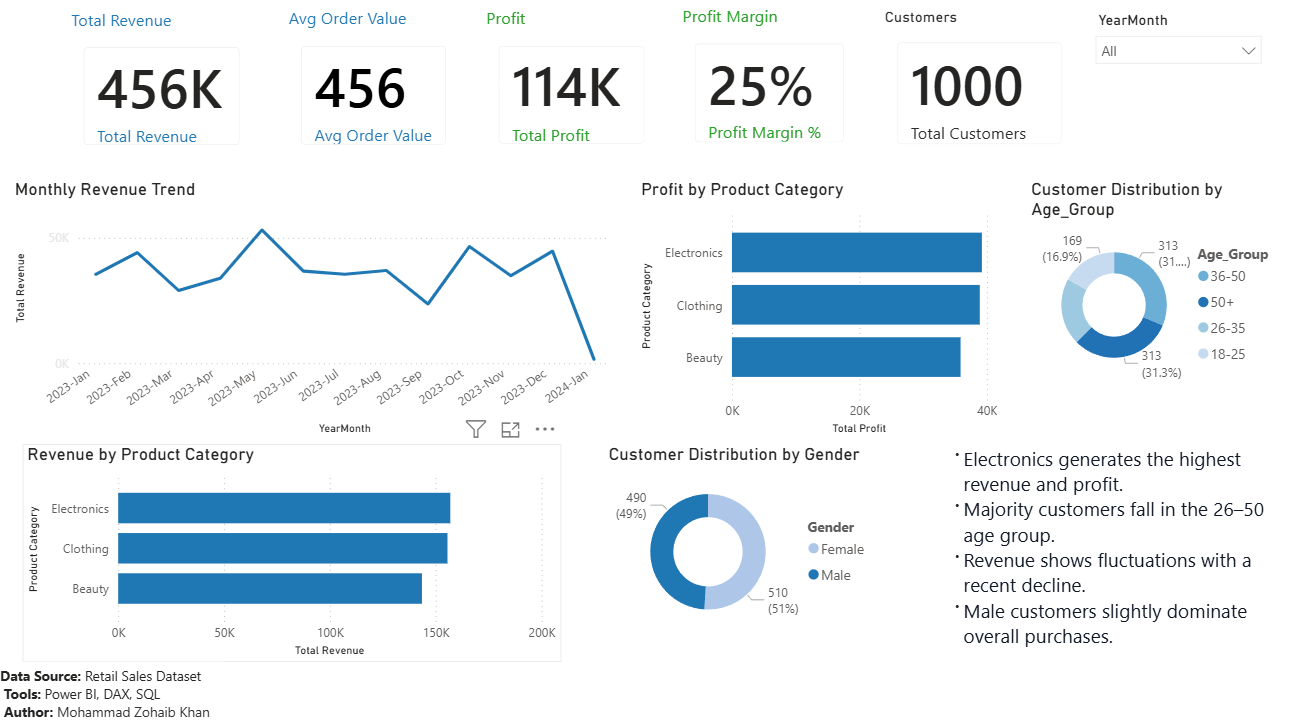

What the dashboard file says about the page in this screenshot:
{"tool":"powerbi","page":{"name":"Executive Summary","canvas":[1280,720],"ordinal":0},"visuals":[{"type":"cardVisual","title":"Total Revenue","fields":{"Data":["clean_retail_sales.Total Revenue"]},"box":[69.7,13.5,187.1,151.6],"z":0},{"type":"cardVisual","title":"Profit","fields":{"Data":["clean_retail_sales.Total Profit"]},"box":[475.7,12.2,177.3,151.6],"z":1000},{"type":"cardVisual","title":"Customers","fields":{"Data":["clean_retail_sales.Total Customers"]},"box":[865.8,13.5,195.7,151.6],"z":2000},{"type":"cardVisual","title":"Avg Order Value","fields":{"Data":["clean_retail_sales.Avg Order Value"]},"box":[282.5,12.2,176.1,152.9],"z":3000},{"type":"cardVisual","title":"Profit Margin","fields":{"Data":["clean_retail_sales.Profit Margin %"]},"box":[667.7,9.8,181,152.9],"z":4000},{"type":"lineChart","title":"Monthly Revenue Trend","fields":{"Y":["clean_retail_sales.Total Revenue","select"],"Category":["clean_retail_sales.YearMonth"]},"box":[15.1,181.1,592.8,255.2],"z":5000},{"type":"clusteredBarChart","title":"Revenue by Product Category","fields":{"Category":["clean_retail_sales.Product Category"],"Y":["clean_retail_sales.Total Revenue"]},"box":[27.4,440.5,526.9,212.7],"z":6000},{"type":"clusteredBarChart","title":"Profit by Product Category","fields":{"Category":["clean_retail_sales.Product Category"],"Y":["clean_retail_sales.Total Profit"]},"box":[627.1,181.1,358.1,255.2],"z":7000},{"type":"donutChart","title":"Customer Distribution by Gender","fields":{"Category":["clean_retail_sales.Gender"],"Y":["clean_retail_sales.Total Customers"]},"box":[595.5,440.5,270.3,192.1],"z":8000},{"type":"donutChart","title":"Customer Distribution by Age_Group","fields":{"Category":["clean_retail_sales.Age_Group"],"Y":["clean_retail_sales.Total Customers"]},"box":[1008.6,181.1,255.2,208.6],"z":9000},{"type":"slicer","fields":{"Values":["clean_retail_sales.YearMonth"]},"box":[1066.2,12.3,182.5,138.6],"z":10000},{"type":"textbox","box":[924.9,436.4,323.8,211.3],"z":11000},{"type":"textbox","box":[0,653.2,225,67.2],"z":12000}]}

Visuals, with their boxes in screenshot pixels (x1, y1, x2, y2), scaled from the page's 1280x720 canvas onto the 1298x726 screenshot:
"Total Revenue" cardVisual: bbox=[71, 14, 260, 166]
"Profit" cardVisual: bbox=[482, 12, 662, 165]
"Customers" cardVisual: bbox=[878, 14, 1076, 166]
"Avg Order Value" cardVisual: bbox=[286, 12, 465, 166]
"Profit Margin" cardVisual: bbox=[677, 10, 861, 164]
"Monthly Revenue Trend" lineChart: bbox=[15, 183, 616, 440]
"Revenue by Product Category" clusteredBarChart: bbox=[28, 444, 562, 659]
"Profit by Product Category" clusteredBarChart: bbox=[636, 183, 999, 440]
"Customer Distribution by Gender" donutChart: bbox=[604, 444, 878, 638]
"Customer Distribution by Age_Group" donutChart: bbox=[1023, 183, 1282, 393]
slicer - clean_retail_sales.YearMonth: bbox=[1081, 12, 1266, 152]
textbox: bbox=[938, 440, 1266, 653]
textbox: bbox=[0, 659, 228, 725]
